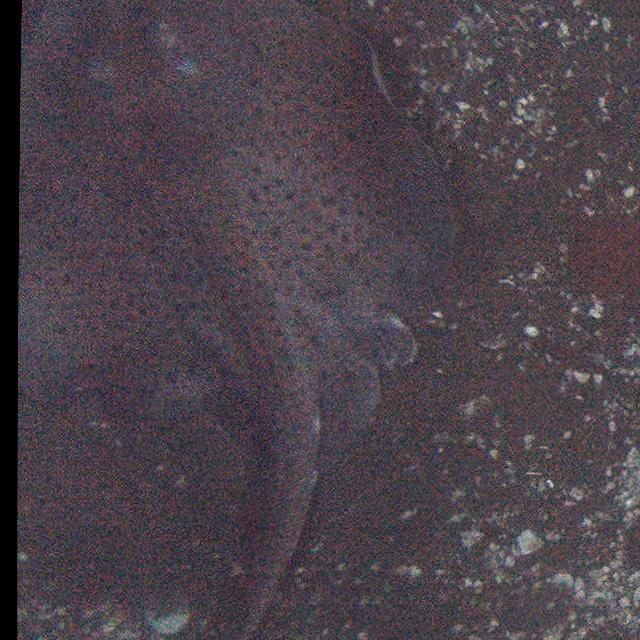skate: (22, 0, 454, 639)
